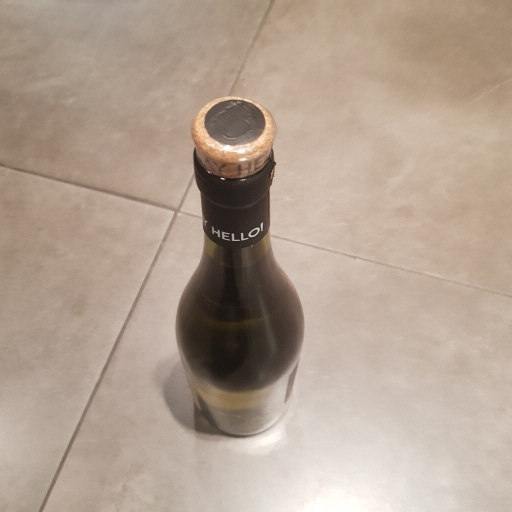Glass_2: (174, 92, 309, 441)
